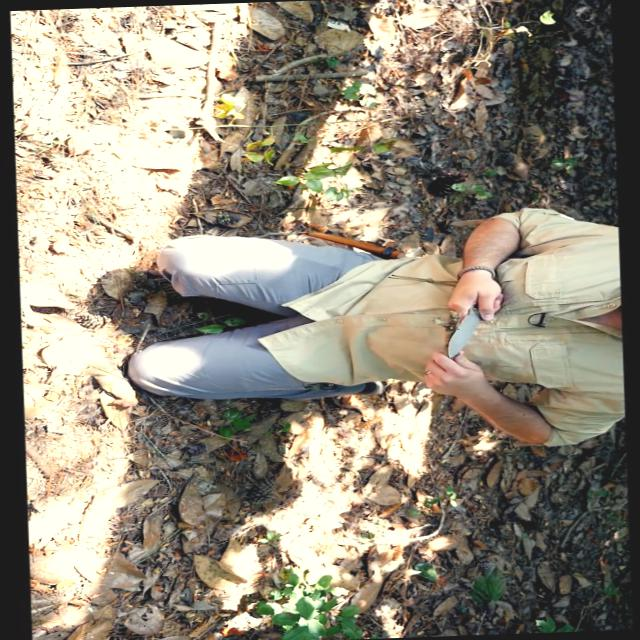knife: (436, 282, 508, 362)
